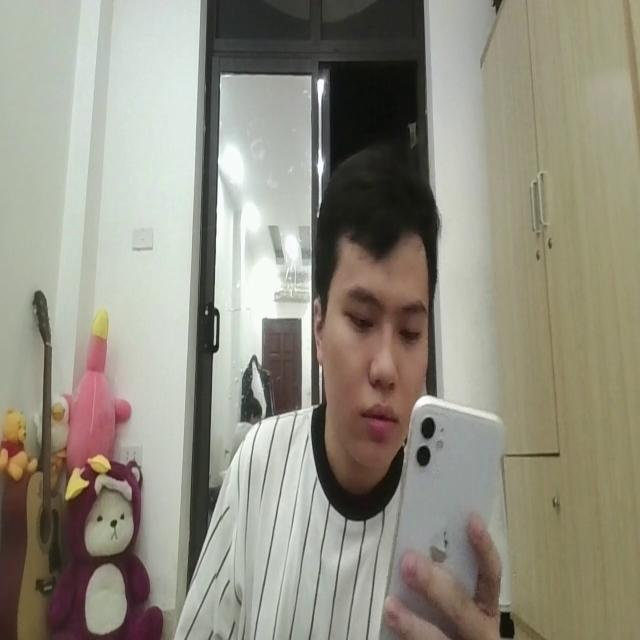phone: (387, 390, 503, 640)
student: (172, 139, 514, 640)
